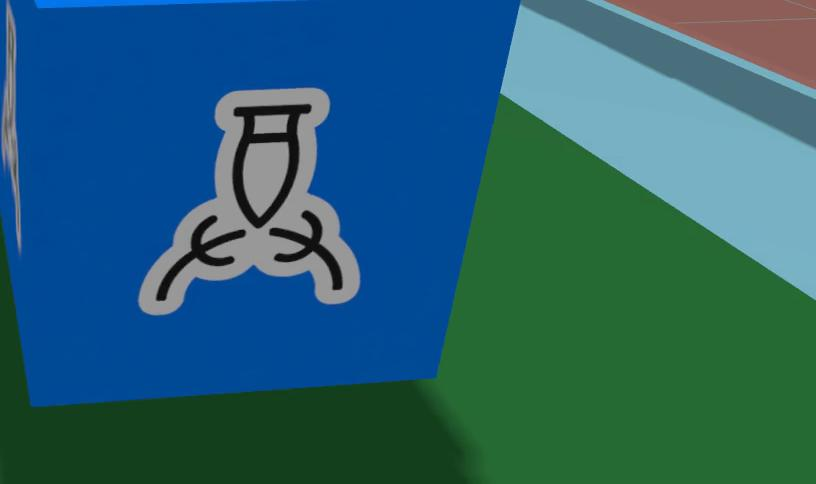KFS_REAL: (0, 0, 518, 405), (138, 88, 359, 314)
